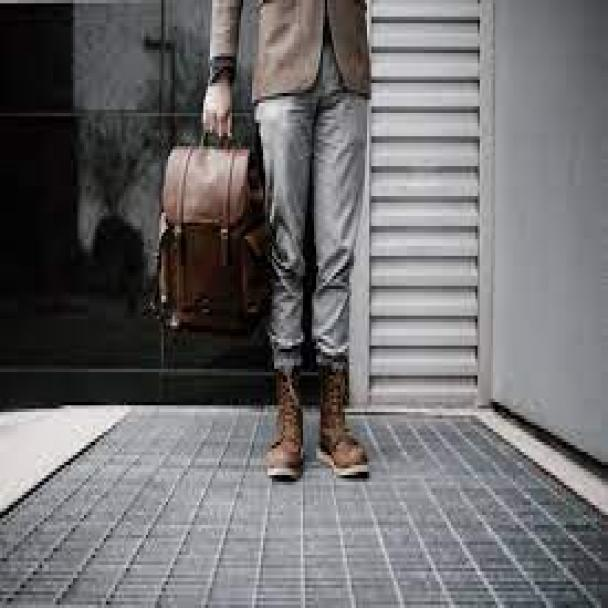Sepatu: (320, 367, 369, 478), (268, 373, 307, 481)
Tas: (156, 130, 262, 334)
